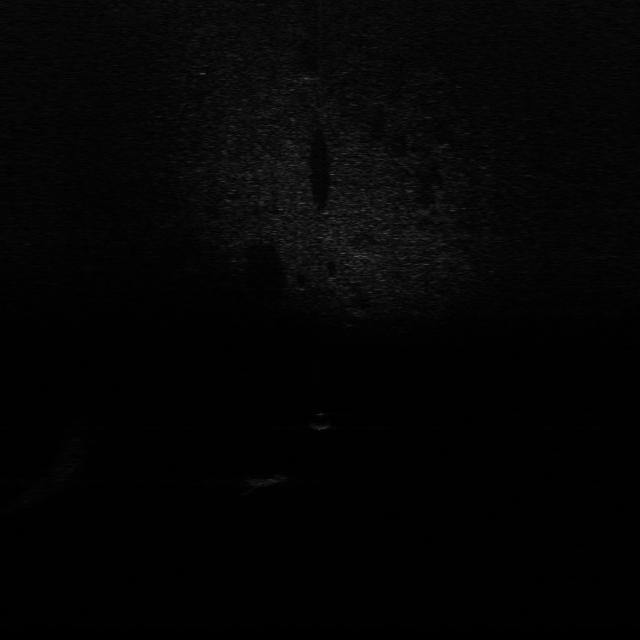ball: (308, 409, 334, 432)
square cage: (244, 466, 297, 489)
